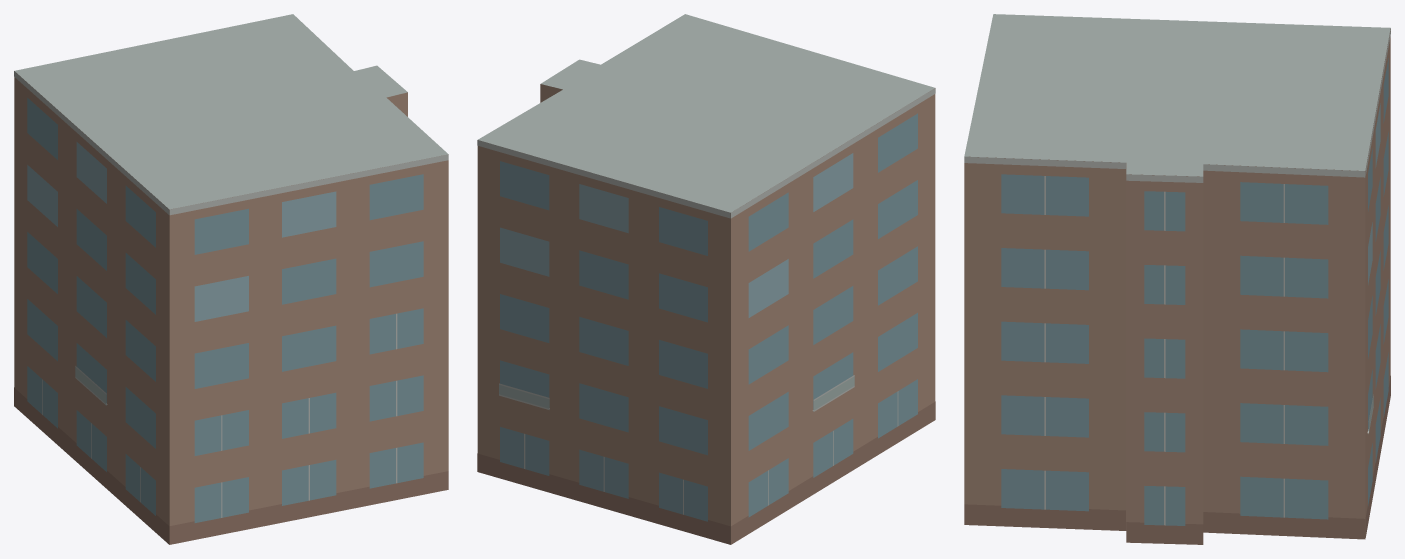
File: survey-upis-32906714.glb
3 views of the same model, side by side, from view 1: azimuth 30°, elevation 25°; view 2: azimuth 150°, elevation 25°; view 3: azimuth 270°, elevation 25° (orthographic). The views are drawn at different scales.
Visible parts, largest first — view 1: survey-upis-32906714.tmp; view 2: survey-upis-32906714.tmp; view 3: survey-upis-32906714.tmp.
Part boxes in pixels (x1,y1,x2,y2): survey-upis-32906714.tmp: (14, 14, 448, 544); survey-upis-32906714.tmp: (477, 14, 935, 544); survey-upis-32906714.tmp: (964, 14, 1390, 544).
Size of the model in its own units: 13.17 by 13.9 by 14.6.
